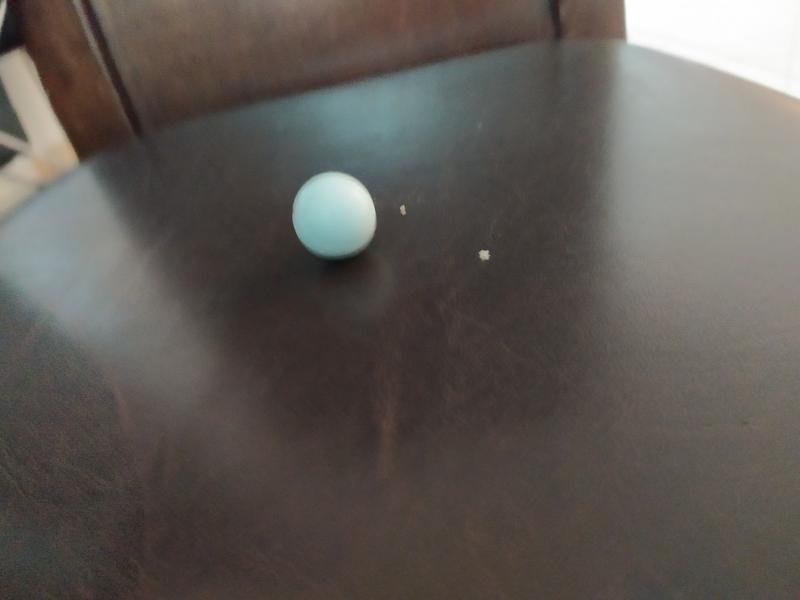Warning: (288, 168, 380, 262)
